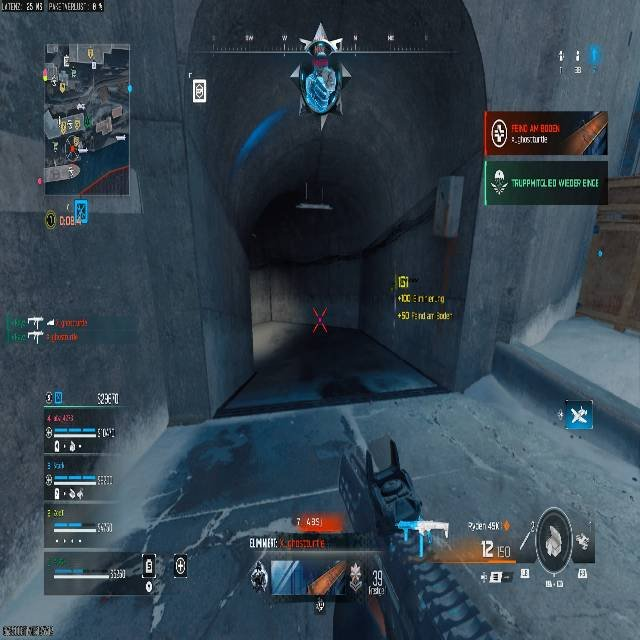player: (309, 306, 330, 338)
